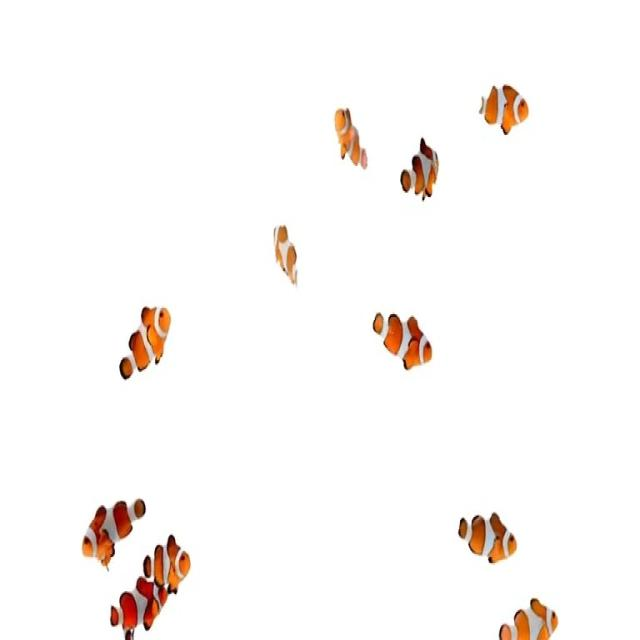fish: (368, 289, 438, 382), (74, 486, 145, 572), (457, 488, 520, 576), (114, 298, 177, 384), (476, 64, 534, 144), (137, 534, 209, 594), (389, 136, 449, 205), (496, 582, 562, 640), (106, 580, 166, 640), (334, 96, 370, 183), (268, 214, 300, 288)
